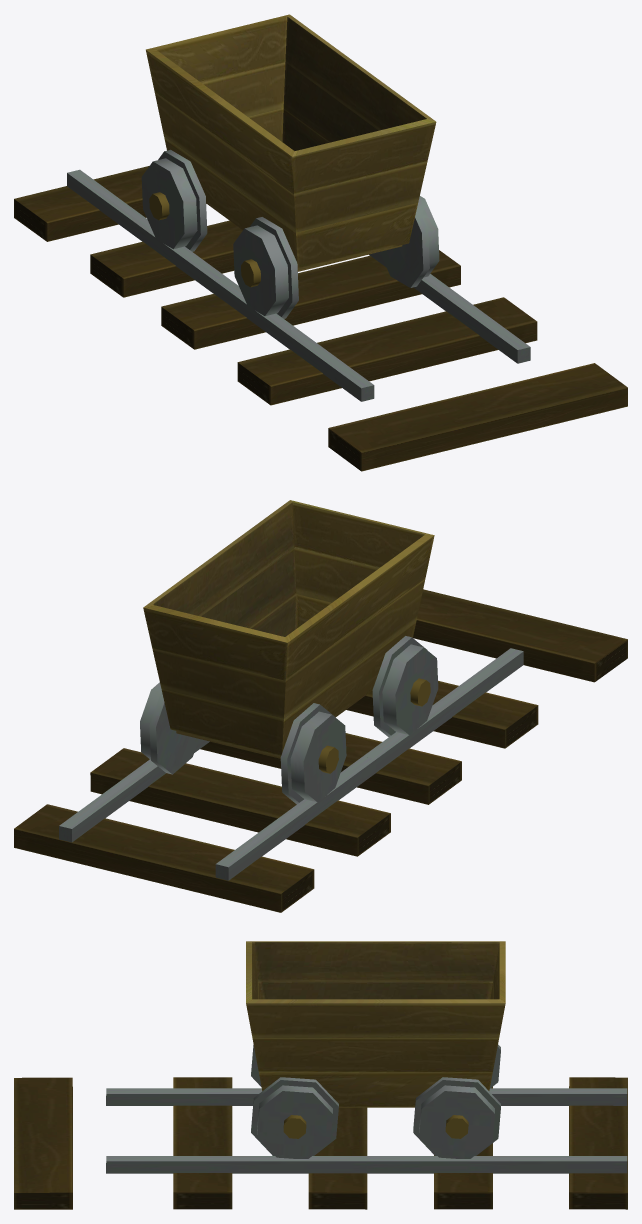
The model's file is wagon-1584.glb.
The picture shows the model from 3 angles, top to bottom: view 1: azimuth 30°, elevation 25°; view 2: azimuth 150°, elevation 25°; view 3: azimuth 270°, elevation 25°; orthographic projection. The views are drawn at different scales.
Parts seen in each view (by area): view 1: wagon, rails, railroad_tie, rails.001; view 2: wagon, rails.001, rails, railroad_tie; view 3: wagon, rails, rails.001, railroad_tie.
Part boxes in pixels (x1=…): wagon: x1=141, y1=14, x2=439, y2=318; rails: x1=161, y1=250, x2=537, y2=405; railroad_tie: x1=328, y1=363, x2=627, y2=471; rails.001: x1=14, y1=166, x2=370, y2=297; wagon: x1=140, y1=500, x2=438, y2=804; rails.001: x1=14, y1=739, x2=390, y2=912; rails: x1=200, y1=648, x2=538, y2=804; railroad_tie: x1=413, y1=589, x2=627, y2=682; wagon: x1=246, y1=941, x2=505, y2=1158; rails: x1=106, y1=1077, x2=367, y2=1209; rails.001: x1=366, y1=1077, x2=627, y2=1209; railroad_tie: x1=14, y1=1077, x2=72, y2=1209.
Size of the model in its own units: 4.8 by 3.53 by 10.8.
Materials: 3 (3 with a texture image).
